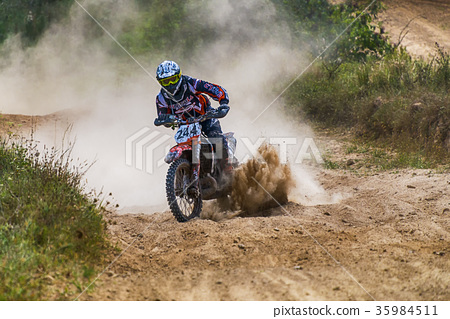helmet: (156, 62, 182, 89)
